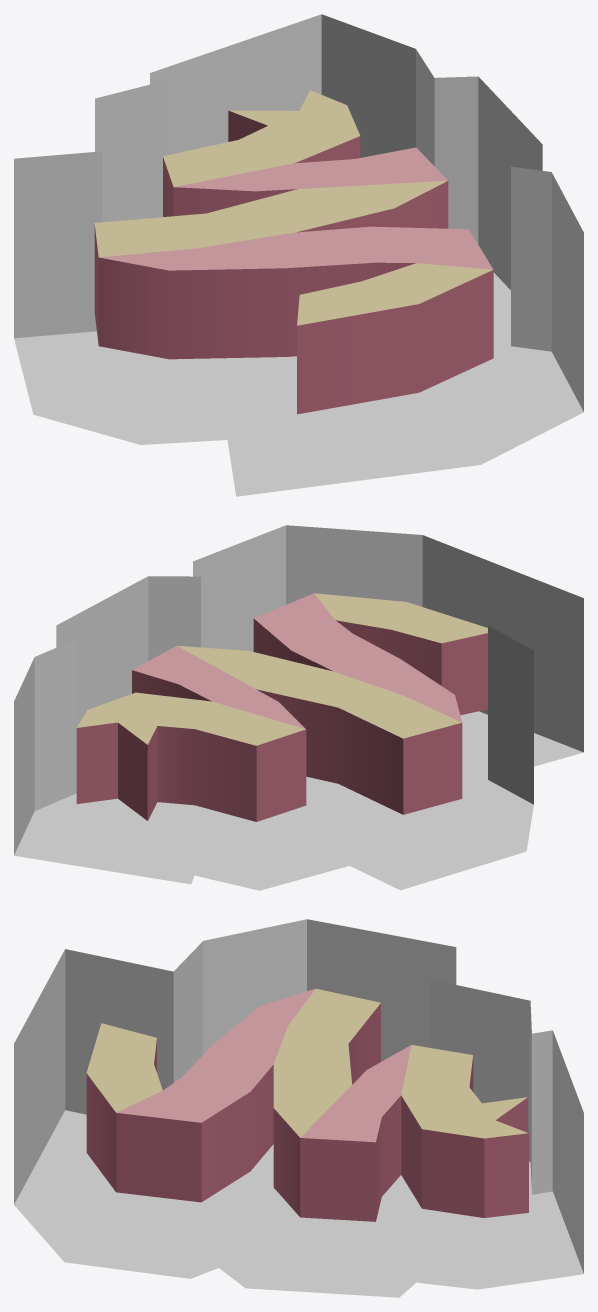
Rendered from BirthdayCakeSwirl.glb.
3 views of the same model, one above another, from view 1: azimuth 30°, elevation 25°; view 2: azimuth 150°, elevation 25°; view 3: azimuth 270°, elevation 25° (orthographic). The views are drawn at different scales.
Visible parts, largest first — view 1: BirthdayCakeSwirl; view 2: BirthdayCakeSwirl; view 3: BirthdayCakeSwirl.
Part boxes in pixels (x1,y1,x2,y2): BirthdayCakeSwirl: (14,14,583,496); BirthdayCakeSwirl: (14,525,583,890); BirthdayCakeSwirl: (14,919,583,1297).
Bounding box in the file's own units: 0.2038 × 0.0705 × 0.2258.
